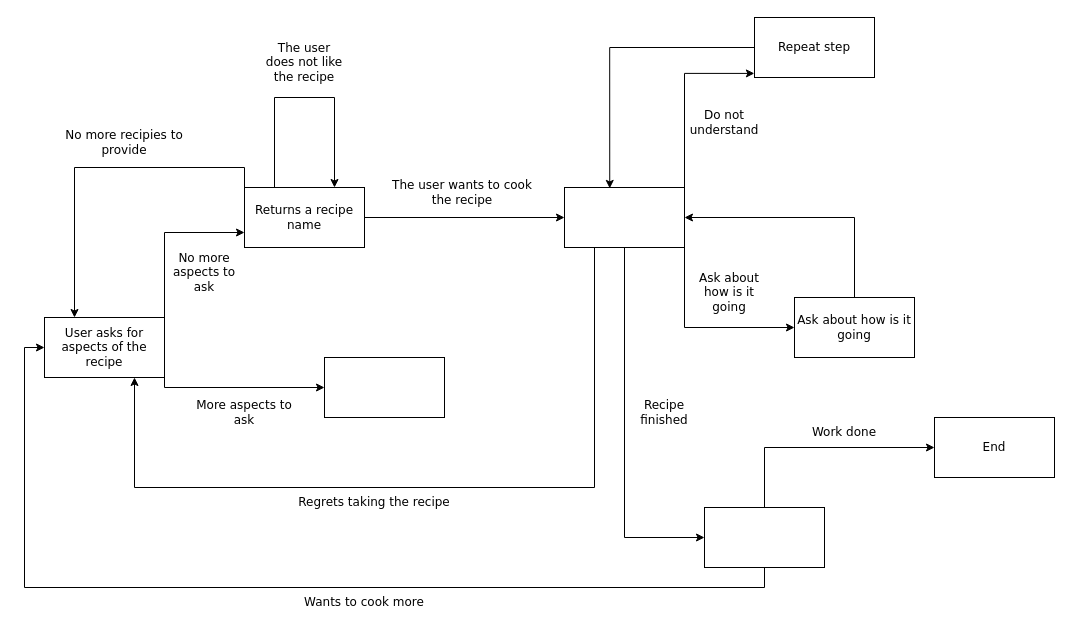
The diagram is 1072 pixels wide and 635 high, and some of its shapes have lost their labels. Here are the shapes that lost their labels. From the top down, the centre of each, then its label:
(x=624, y=217): Show the next step
(x=384, y=387): Asks for other aspect of the recipe
(x=764, y=537): Ask about how good was it // Ask if want to cook something else
